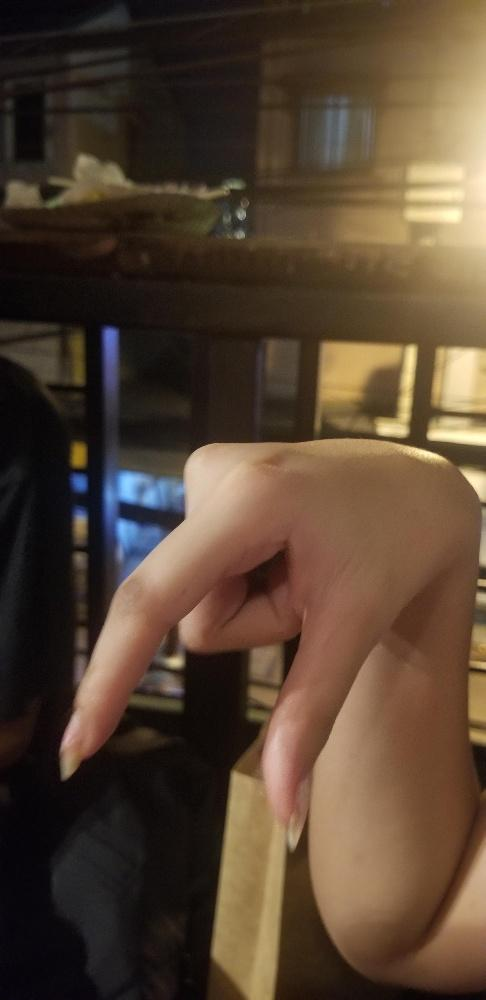q: (56, 429, 464, 854)
